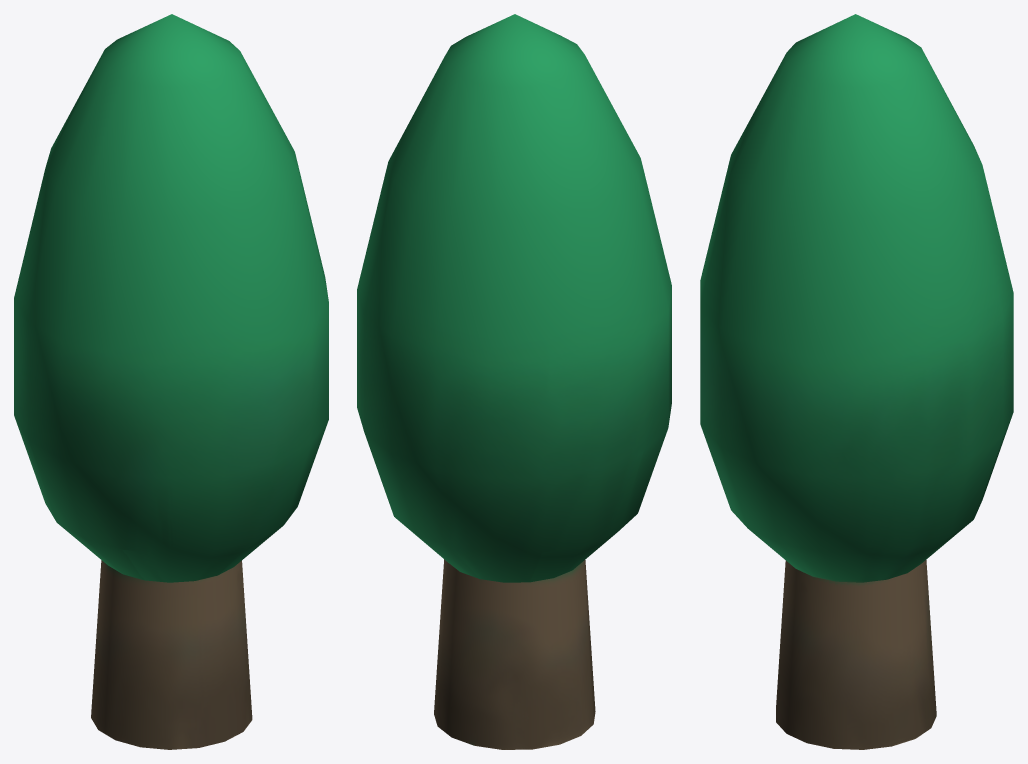
The model's file is tree 1.fbx.
The picture shows the model from 3 angles, left to right: view 1: azimuth 30°, elevation 25°; view 2: azimuth 150°, elevation 25°; view 3: azimuth 270°, elevation 25°; orthographic projection.
Parts seen in each view (by area): view 1: Sphere; view 2: Sphere; view 3: Sphere.
Boxes of the visible parts, bbox=[...] form: Sphere: bbox=[14, 14, 328, 749]; Sphere: bbox=[357, 14, 671, 749]; Sphere: bbox=[700, 14, 1013, 749].
Bounding box in the file's own units: 194 × 479 × 193.
